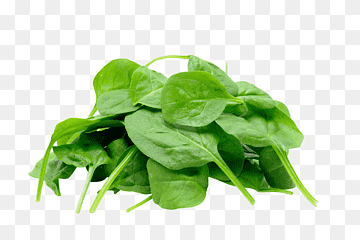Bayam: (41, 37, 329, 226)
